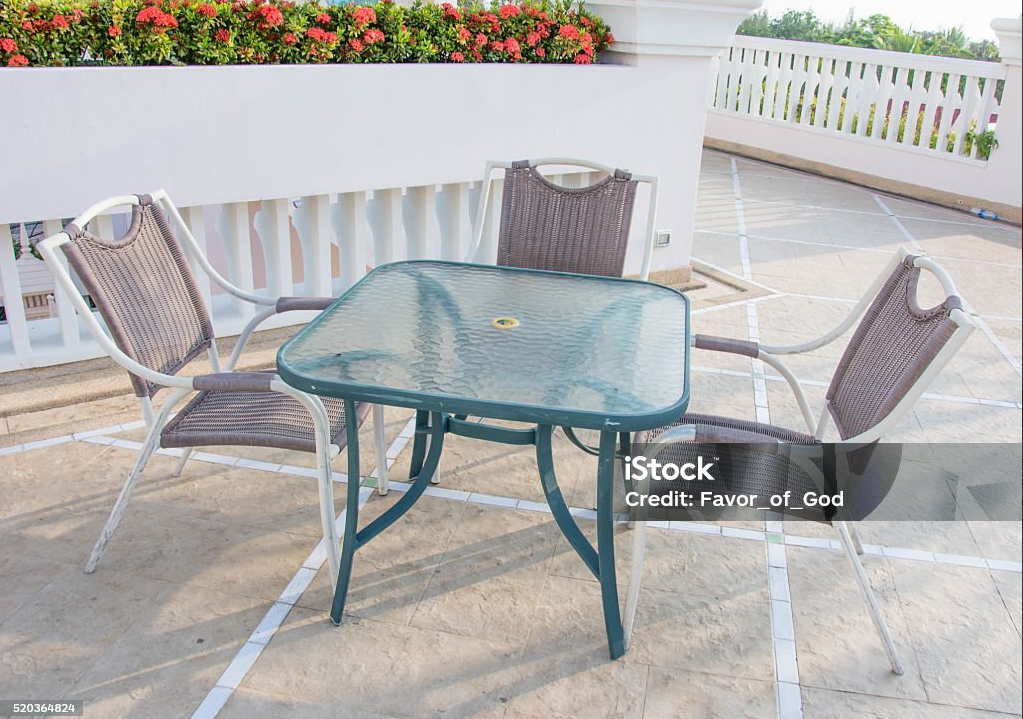obstacle: (277, 260, 699, 659), (626, 246, 972, 685), (40, 200, 365, 594)
